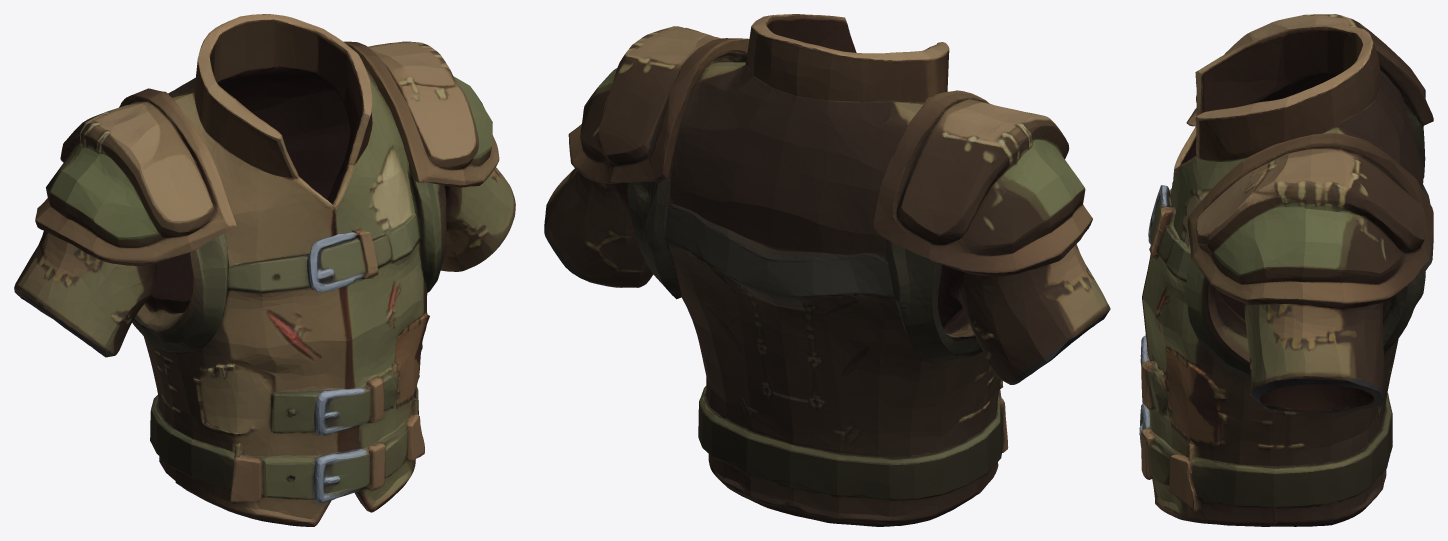
File: thick_skin.glb
3 renders of one model, left to right at view 1: azimuth 30°, elevation 25°; view 2: azimuth 150°, elevation 25°; view 3: azimuth 270°, elevation 25°, orthographic. The views are drawn at different scales.
Visible parts, largest first — view 1: world; view 2: world; view 3: world.
Boxes of the visible parts, left/top/right/bottom form: world: left=14, top=14, right=515, bottom=526; world: left=544, top=14, right=1110, bottom=526; world: left=1139, top=14, right=1433, bottom=526.
Bounding box in the file's own units: 1 × 0.867 × 0.515.
Materials: 1 (1 with a texture image).
